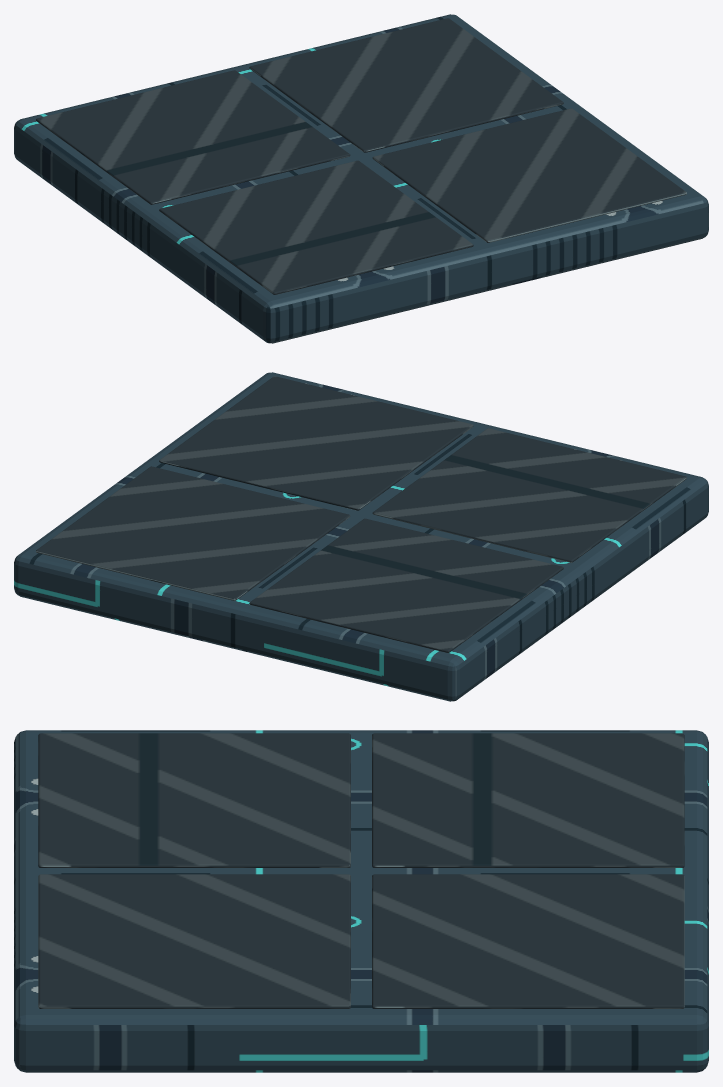
File: ModuloSuelo.fbx
3 views of the same model, one above another, from view 1: azimuth 30°, elevation 25°; view 2: azimuth 150°, elevation 25°; view 3: azimuth 270°, elevation 25° (orthographic). The views are drawn at different scales.
Visible parts, largest first — view 1: ModuloSuelo; view 2: ModuloSuelo; view 3: ModuloSuelo.
Part boxes in pixels (box(x1,y1,x2,y2)): ModuloSuelo: box(14, 14, 708, 343); ModuloSuelo: box(14, 372, 708, 701); ModuloSuelo: box(14, 730, 708, 1072).
Bounding box in the file's own units: 200 × 19.2 × 200.
